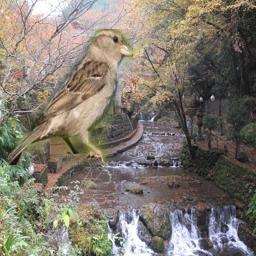Sparrow: (8, 29, 133, 165)
